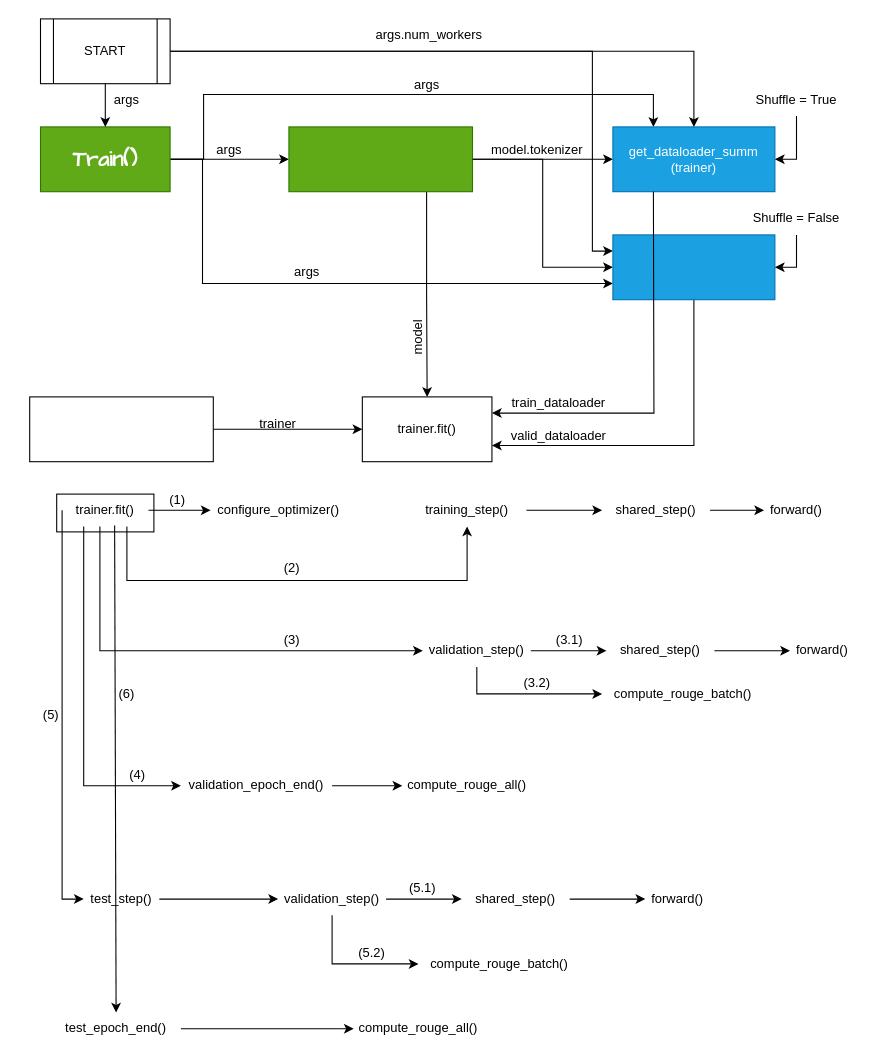
This 873x1064 diagram has some shape labels left out. The centre of each missing label's shape, as x and y in pixels:
"get_dataloader_summ (validator)" belongs at pixel 693 267.
"HGSummarizer.__init__" belongs at pixel 380 159.
"Pytorch_lightning.Trainer()" belongs at pixel 121 429.
